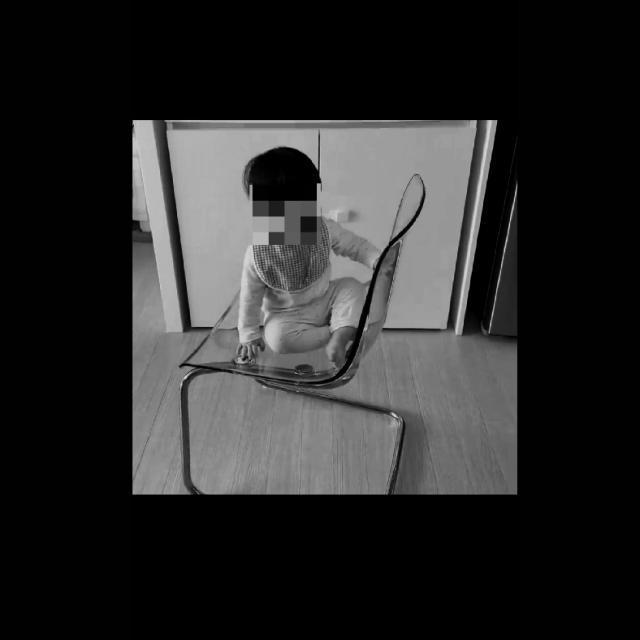child: (230, 146, 388, 376)
